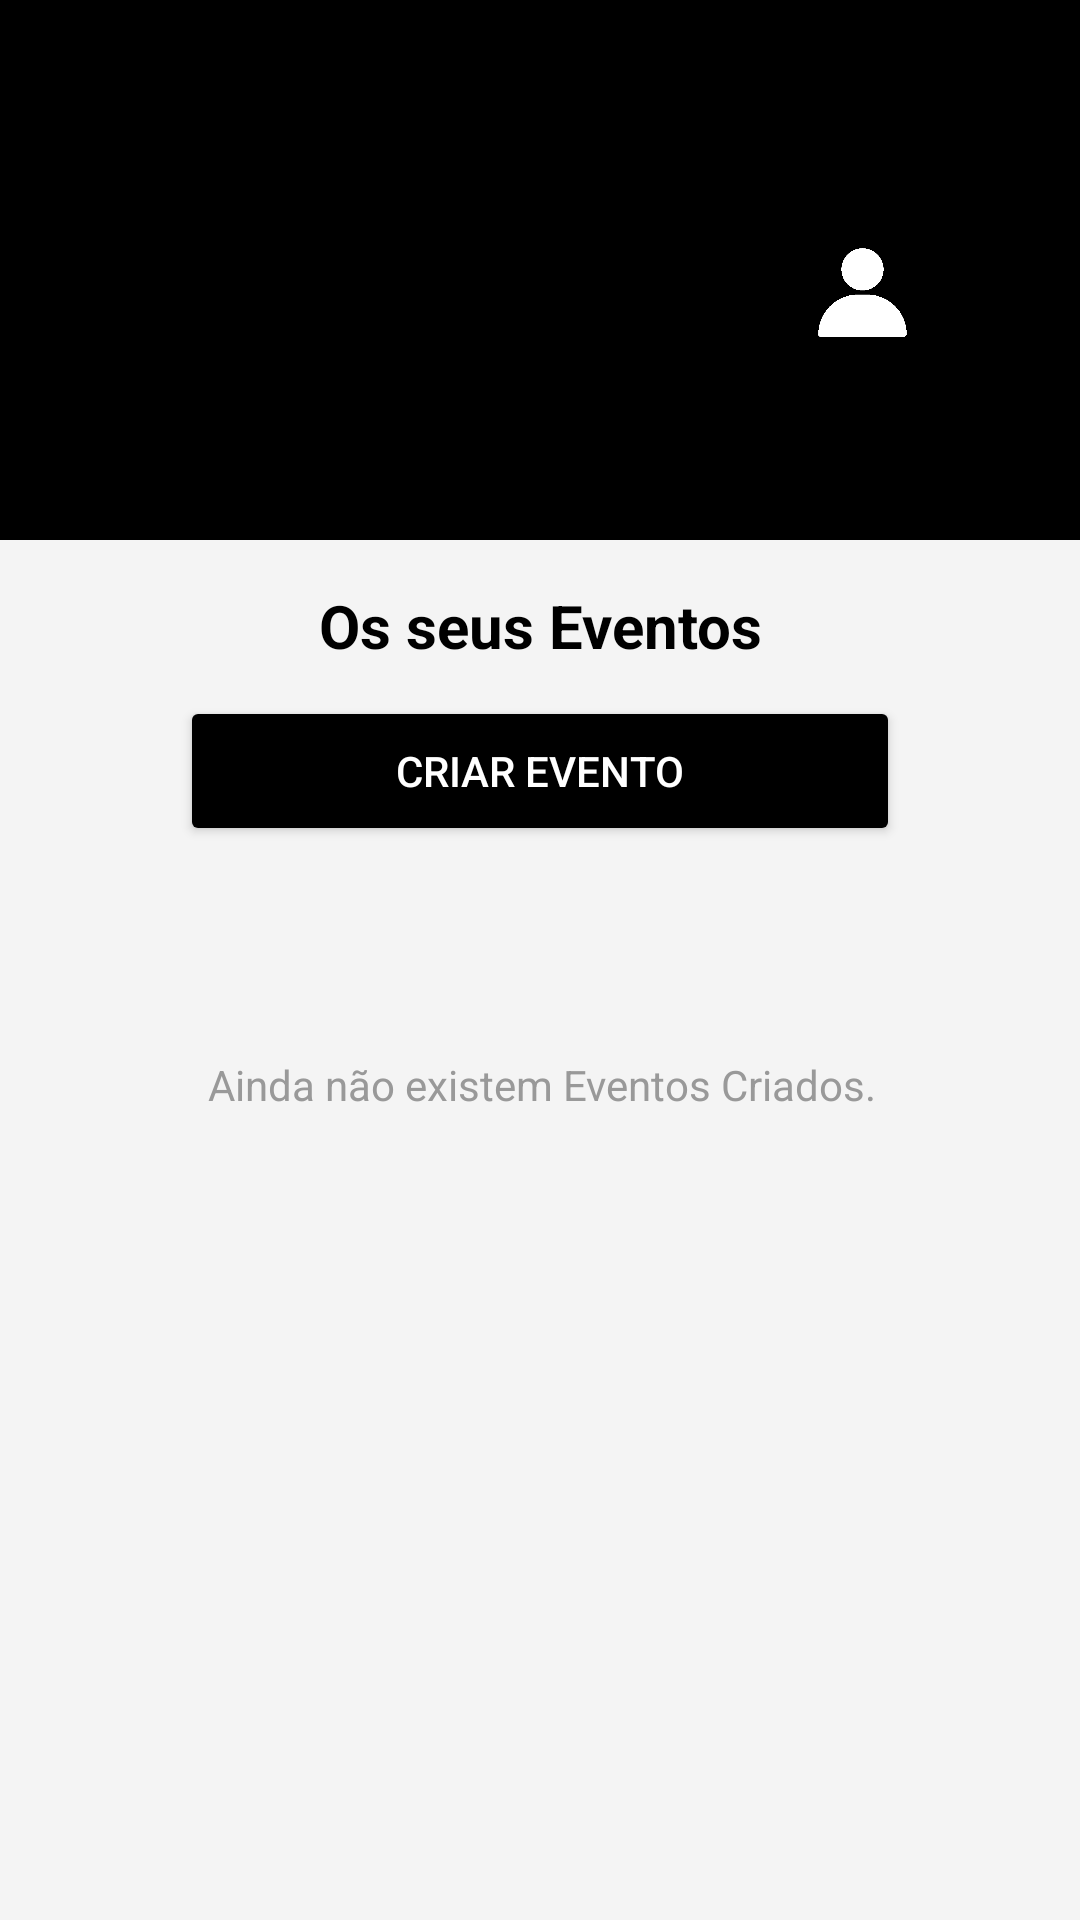

Icon click points for this 1080w x 1920h phone screenshot, format point (x, y):
perfil: point (862, 292)
